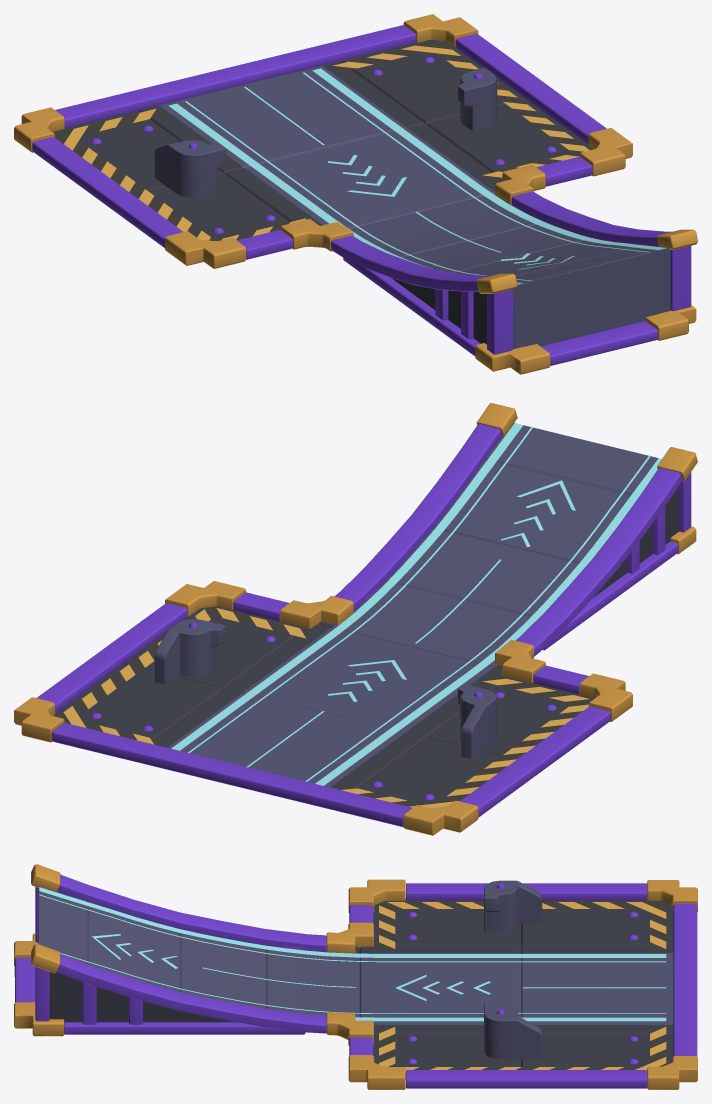
The model's file is Launcher5.fbx.
3 views of the same model, one above another, from view 1: azimuth 30°, elevation 25°; view 2: azimuth 150°, elevation 25°; view 3: azimuth 270°, elevation 25° (orthographic). The views are drawn at different scales.
Parts seen in each view (by area): view 1: Launcher5; view 2: Launcher5; view 3: Launcher5.
Part boxes in pixels (bbox=[...]): Launcher5: bbox=[14, 14, 697, 374]; Launcher5: bbox=[14, 403, 697, 835]; Launcher5: bbox=[14, 864, 697, 1089].
Size of the model in its own units: 60.22 by 13.6 by 87.97.
1 material, 1 textured.
